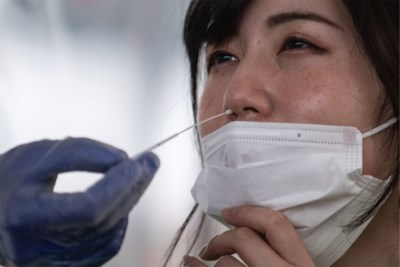with_incorrect_mask: (186, 20, 369, 229)
